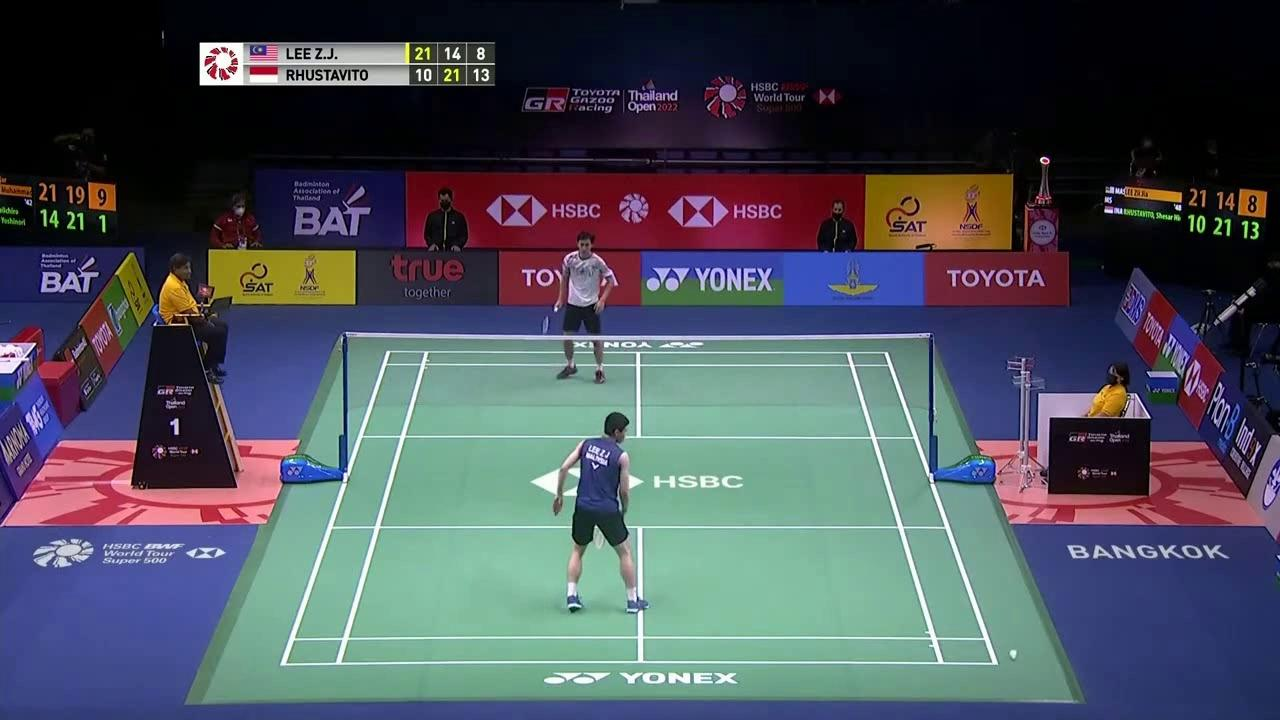racket: (542, 304, 560, 335), (593, 526, 607, 551)
shuttle: (1008, 648, 1018, 660)
